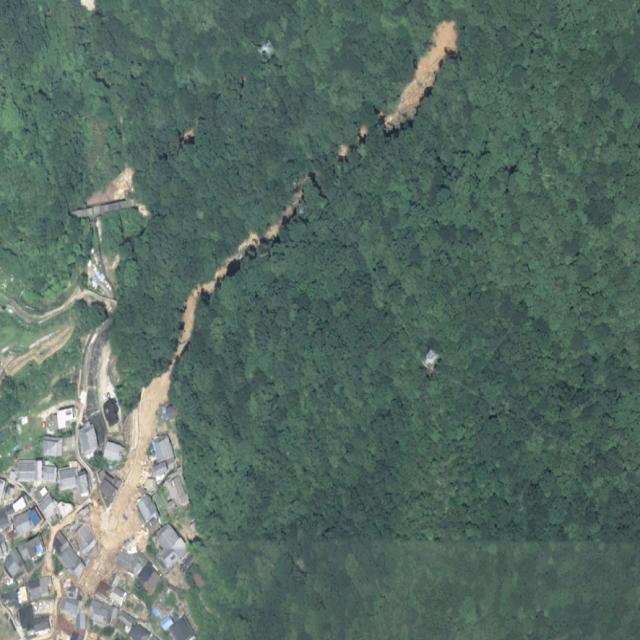landslide: (106, 188, 303, 550), (383, 20, 458, 132)
